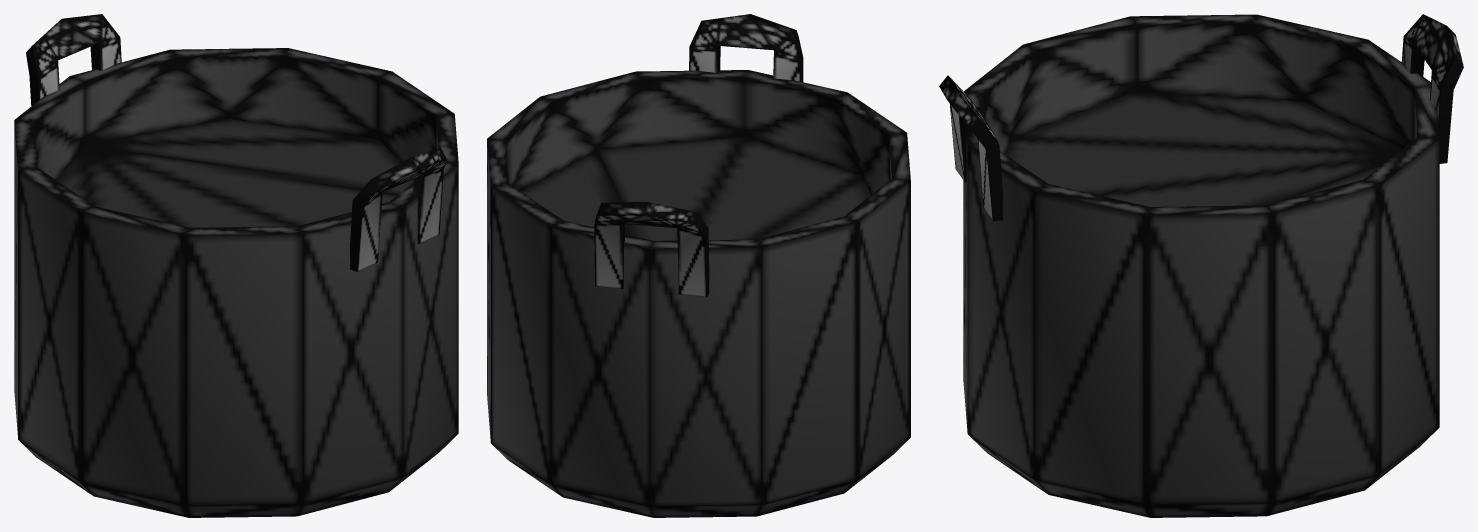
The model's file is Doenjangjjigae.FBX.
The picture shows the model from 3 angles, left to right: view 1: azimuth 30°, elevation 25°; view 2: azimuth 150°, elevation 25°; view 3: azimuth 270°, elevation 25°; orthographic projection. The views are drawn at different scales.
Parts seen in each view (by area): view 1: CookingPotFull; view 2: CookingPotFull; view 3: CookingPotFull.
Part boxes in pixels (<box>): CookingPotFull: <box>14,14,458,517</box>; CookingPotFull: <box>487,14,910,517</box>; CookingPotFull: <box>939,14,1463,517</box>.
Size of the model in its own units: 54.92 by 46.92 by 60.54.
1 material, 1 textured.
